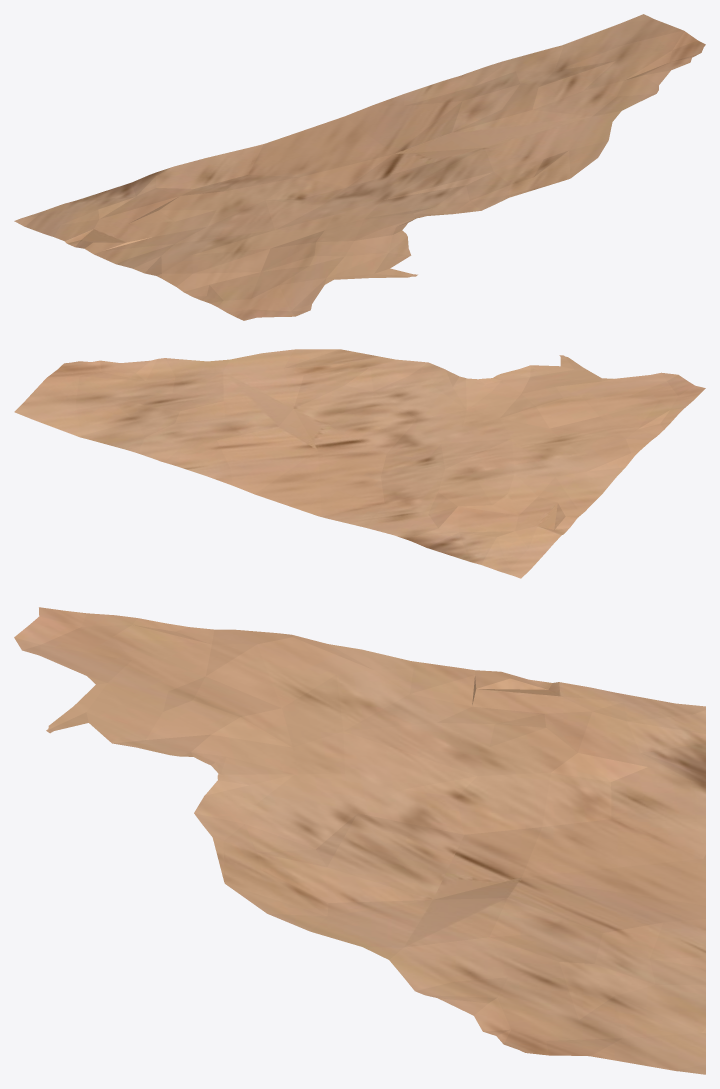
3 renders of one model, top to bottom at view 1: azimuth 30°, elevation 25°; view 2: azimuth 150°, elevation 25°; view 3: azimuth 270°, elevation 25°, orthographic. The views are drawn at different scales.
Size of the model in its own units: 2.09 by 0.217 by 1.37.
Materials: 1 (1 with a texture image).
